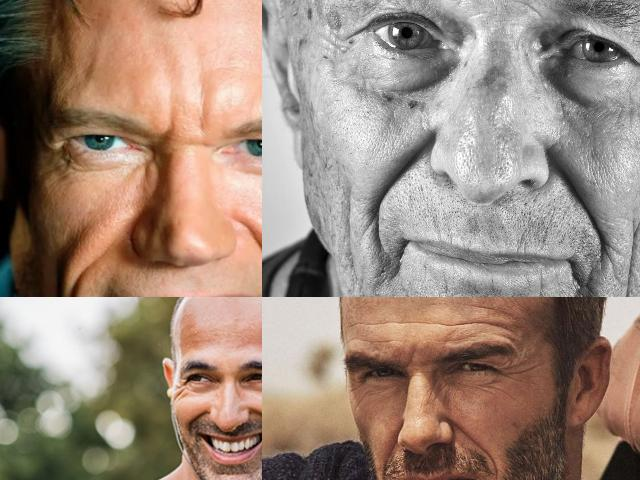bunny_line: (426, 382, 448, 407)
crows_feet: (326, 24, 358, 56), (42, 130, 66, 164), (500, 361, 522, 381), (349, 385, 366, 405), (172, 380, 186, 400)
forehead: (359, 316, 496, 334)
frown_line: (192, 98, 208, 138)
gummy_smile: (550, 157, 604, 235), (380, 126, 428, 195), (450, 418, 492, 456), (243, 226, 262, 283), (379, 437, 398, 471), (64, 265, 81, 297), (185, 408, 208, 426), (249, 406, 262, 425)
masseter: (338, 192, 362, 272), (621, 229, 640, 297)
sad_smile: (368, 214, 396, 270), (565, 267, 591, 297), (487, 466, 503, 480)
